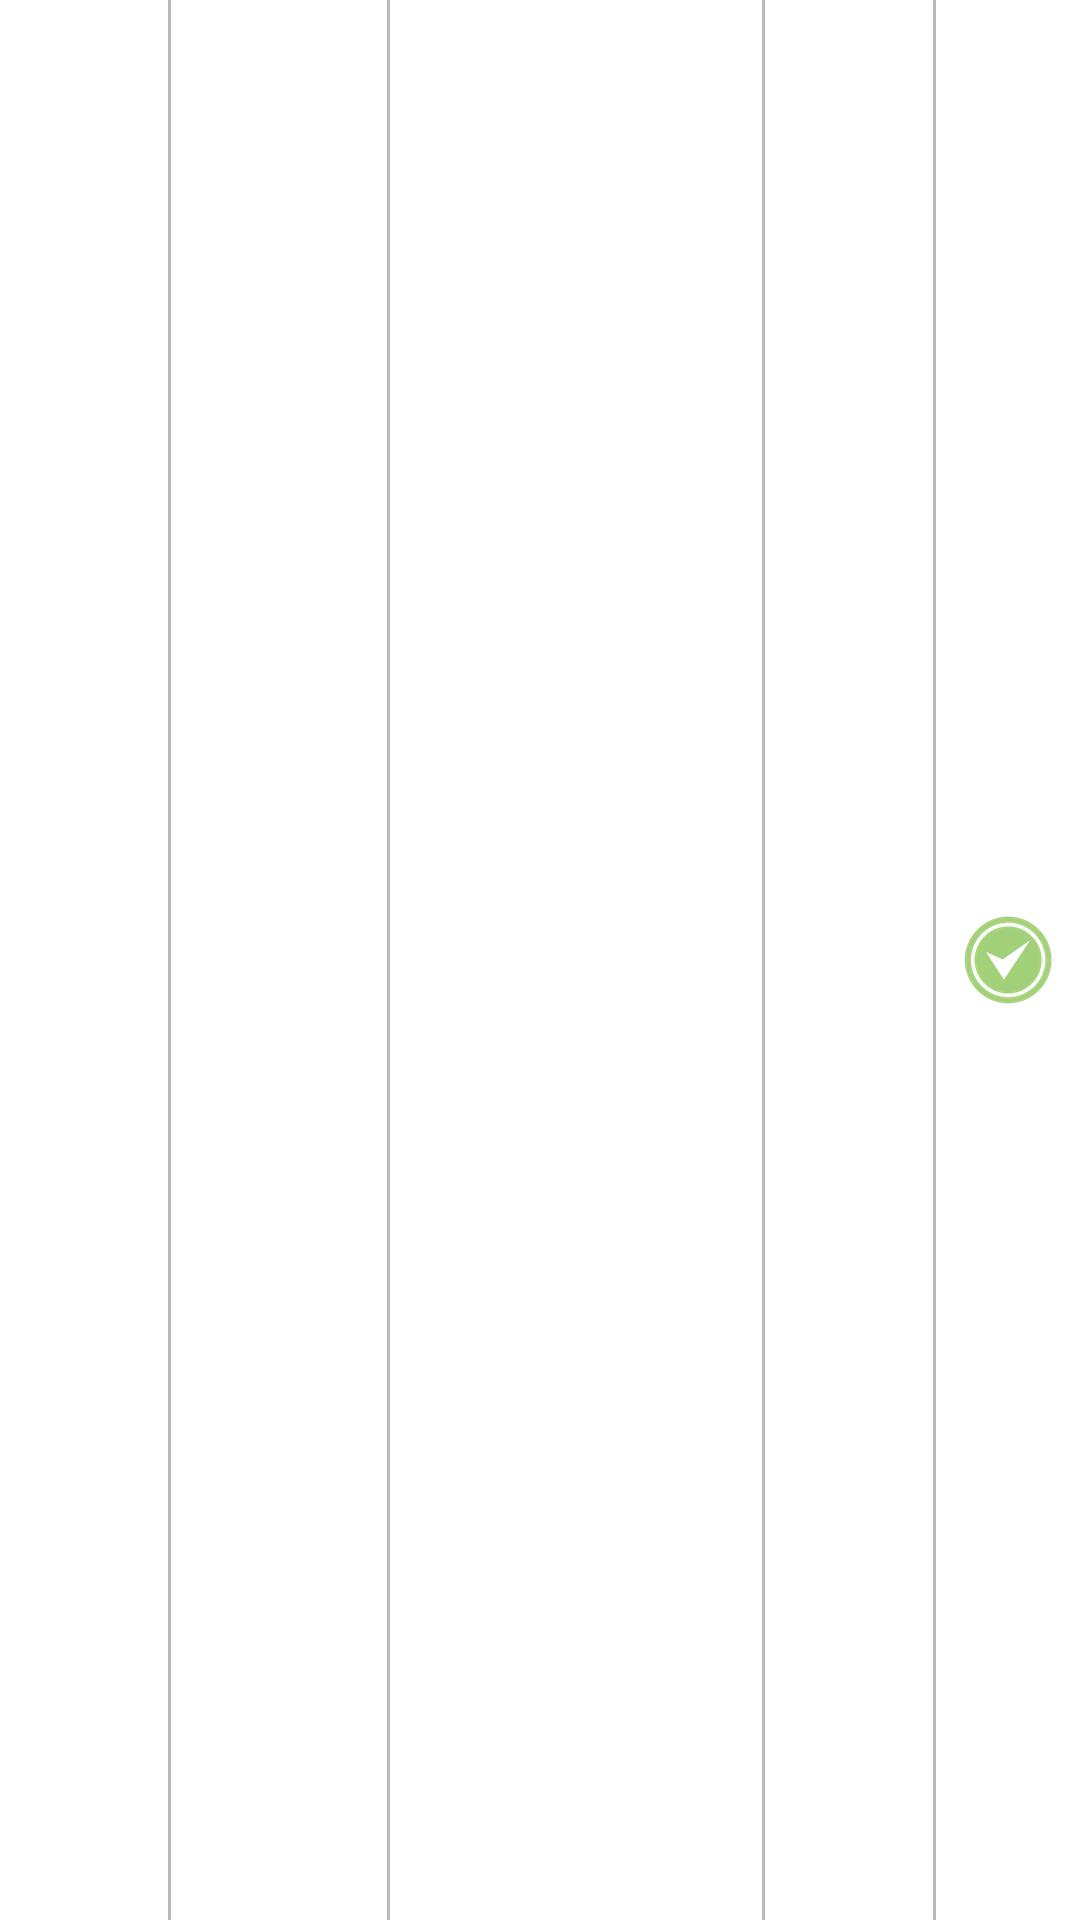

Icons on this 1080 × 1920 Android screen, each with the point to tap as (x,y):
status ok: (1008,960)
